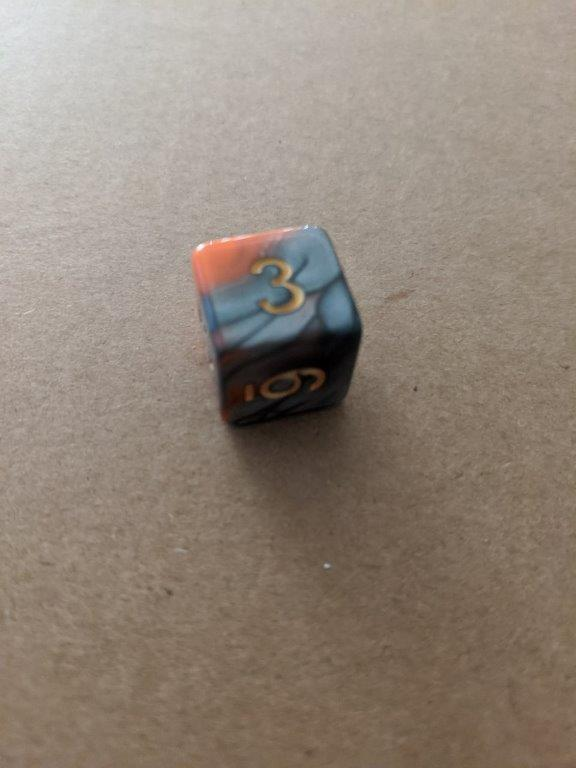d6-3: (192, 220, 367, 431)
